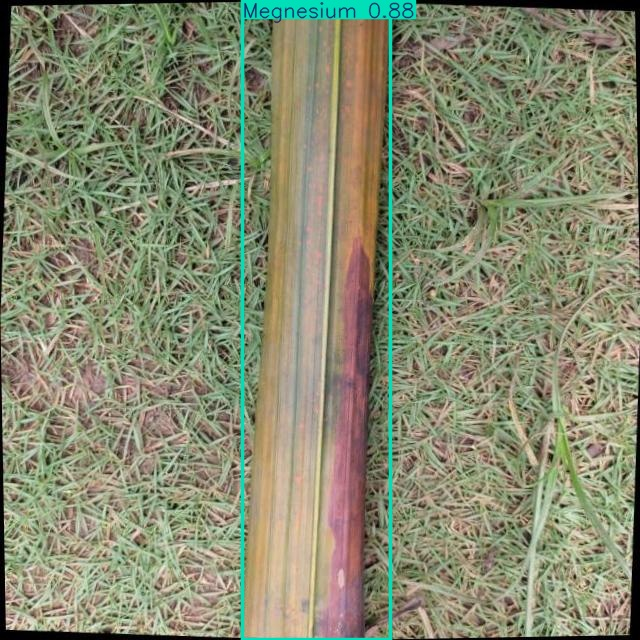Megnesium: (243, 0, 391, 640)
